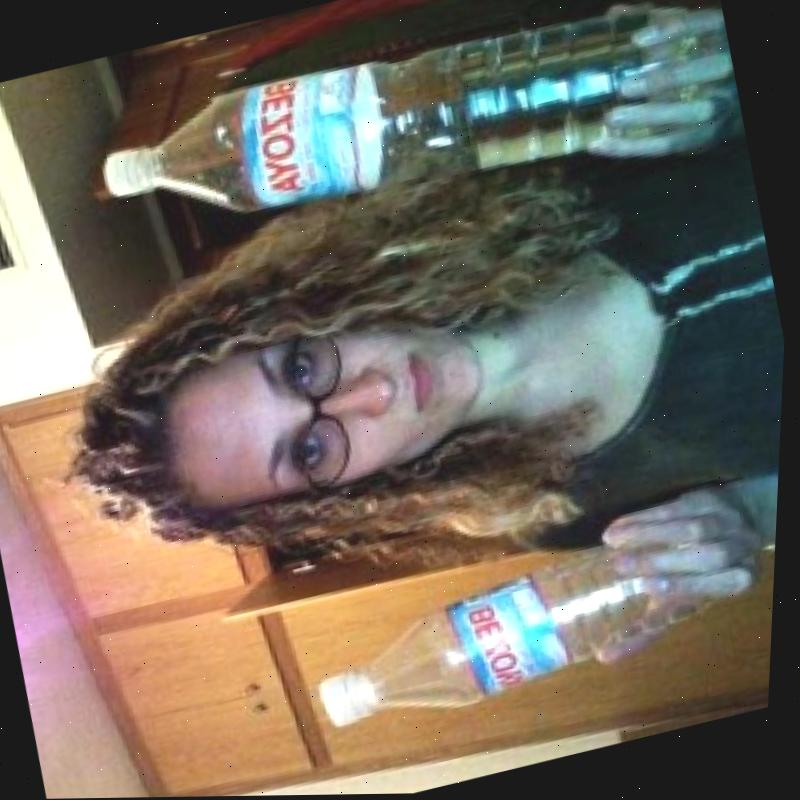botella: (88, 0, 743, 277), (308, 524, 748, 744)
